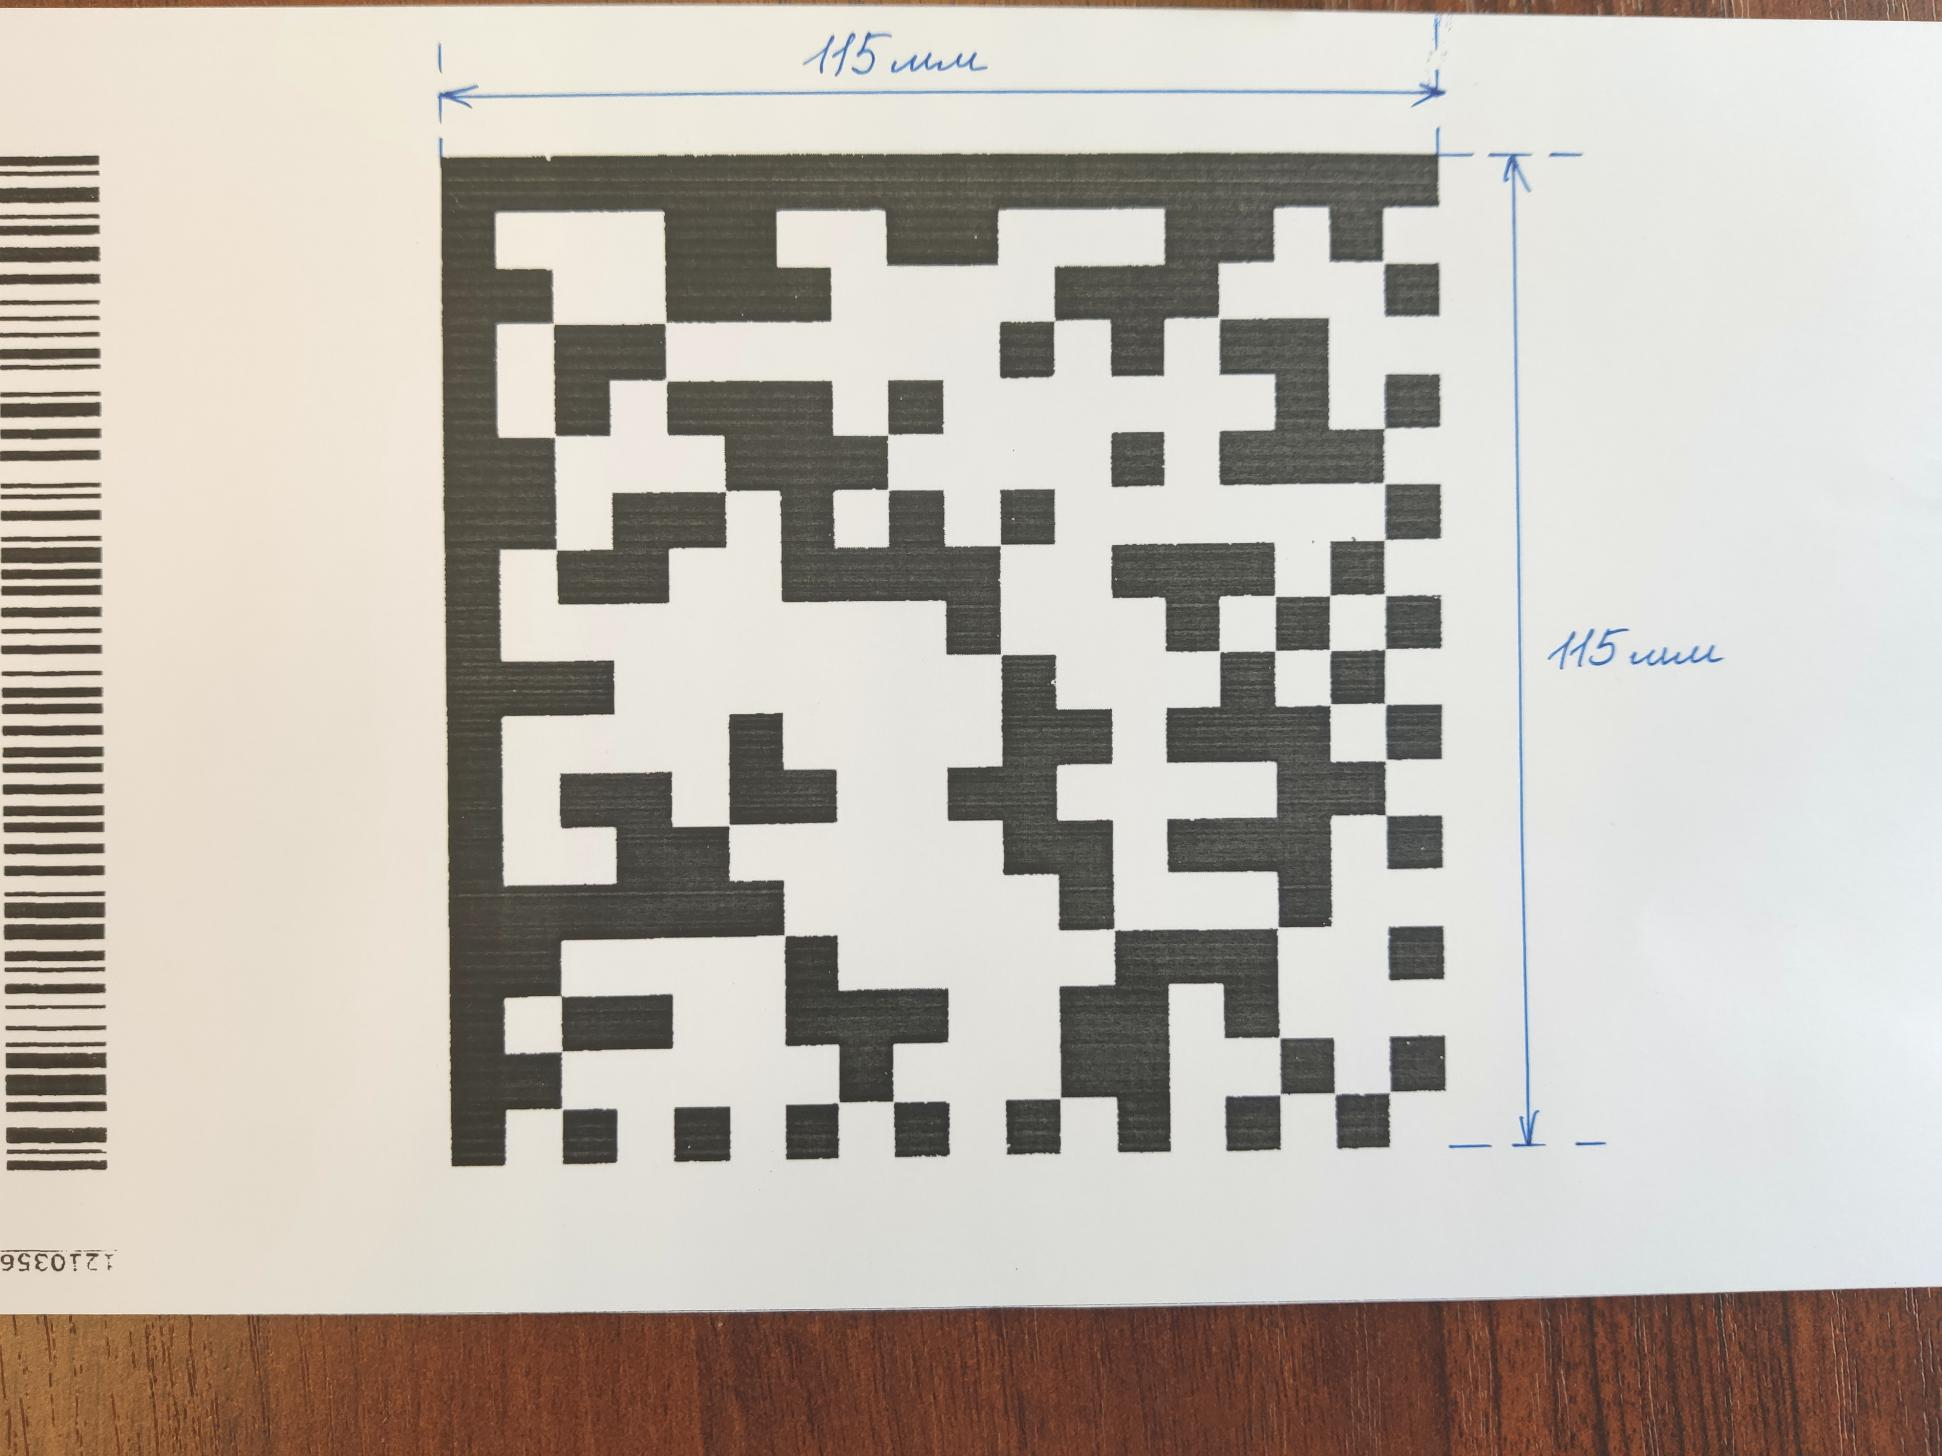data matrix: (410, 132, 1492, 1196)
